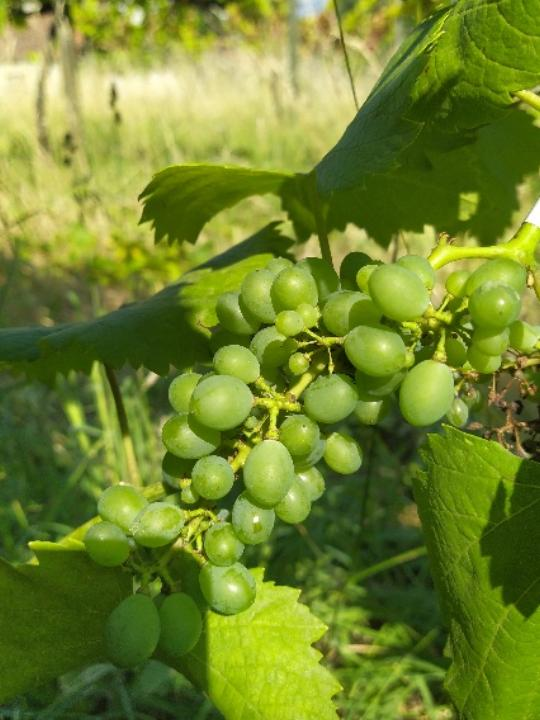grape: (82, 246, 540, 677)
